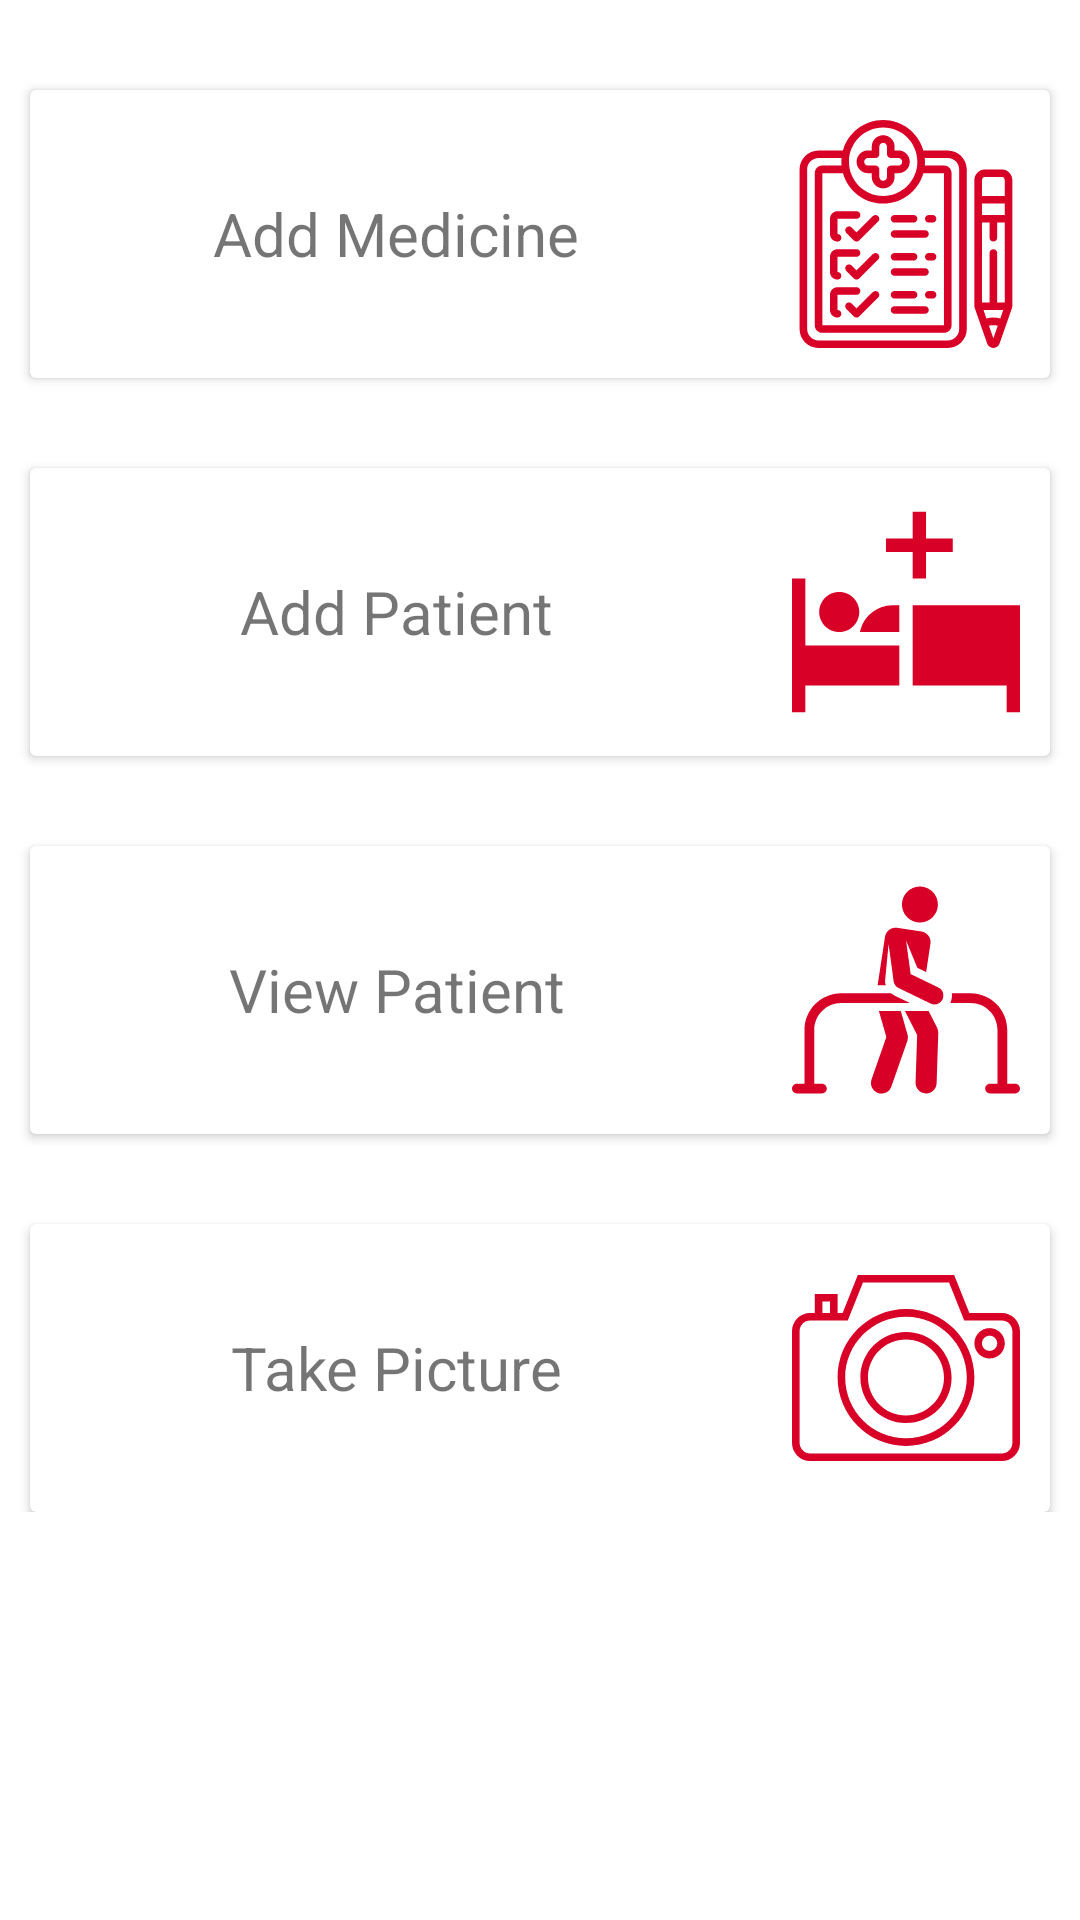

Screen size 1080×1920. Icon name, then its center in pixels as point (x, y):
hospital: point (906, 612)
photo camera: point (921, 1393)
rehabilitation: point (906, 990)
